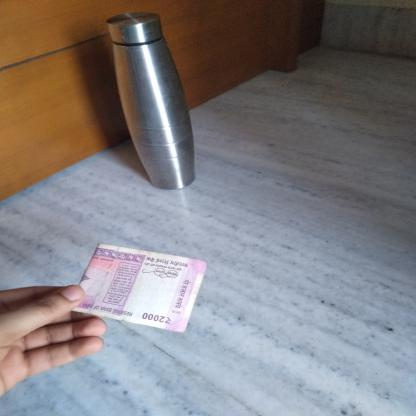New2000Back: (62, 244, 197, 332)
